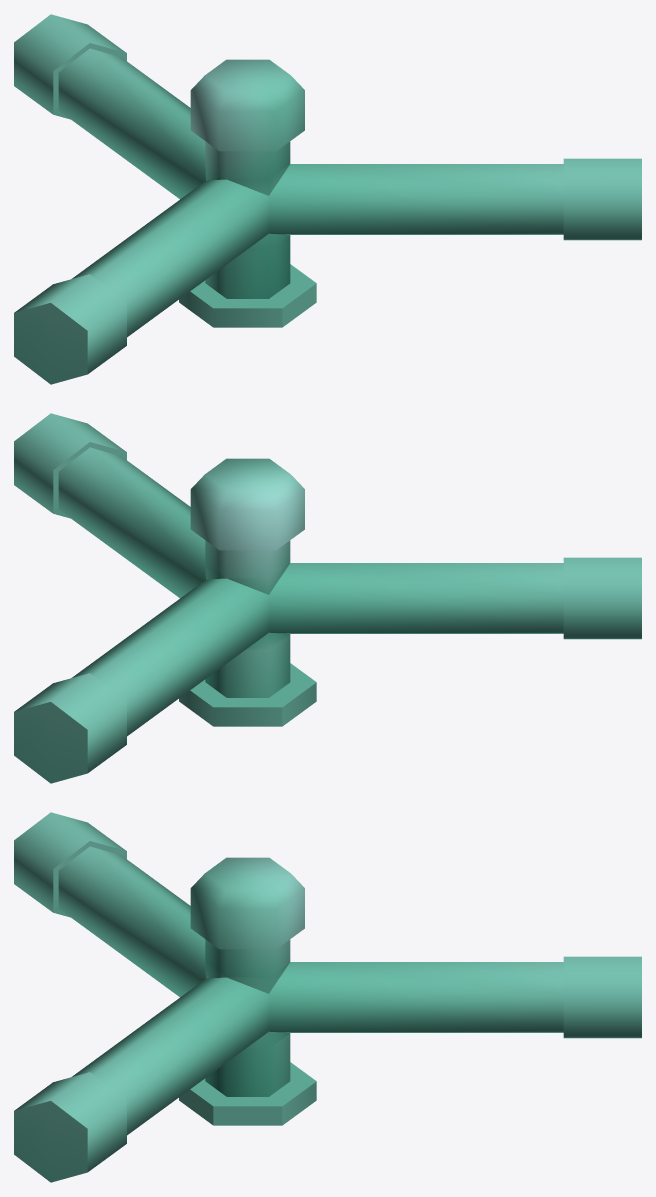
Rendered from squidgame_props_obstacle2_bule.fbx.
3 views of the same model, one above another, from view 1: azimuth 30°, elevation 25°; view 2: azimuth 150°, elevation 25°; view 3: azimuth 270°, elevation 25° (orthographic).
Visible parts, largest first — view 1: squidgame_props_obstacle2_bule; view 2: squidgame_props_obstacle2_bule; view 3: squidgame_props_obstacle2_bule.
Boxes of the visible parts, box(x1,y1,x2,y2) form: squidgame_props_obstacle2_bule: box(14, 14, 641, 384); squidgame_props_obstacle2_bule: box(14, 413, 641, 783); squidgame_props_obstacle2_bule: box(14, 812, 641, 1182).
Size of the model in its own units: 5.75 by 1.99 by 4.98.
